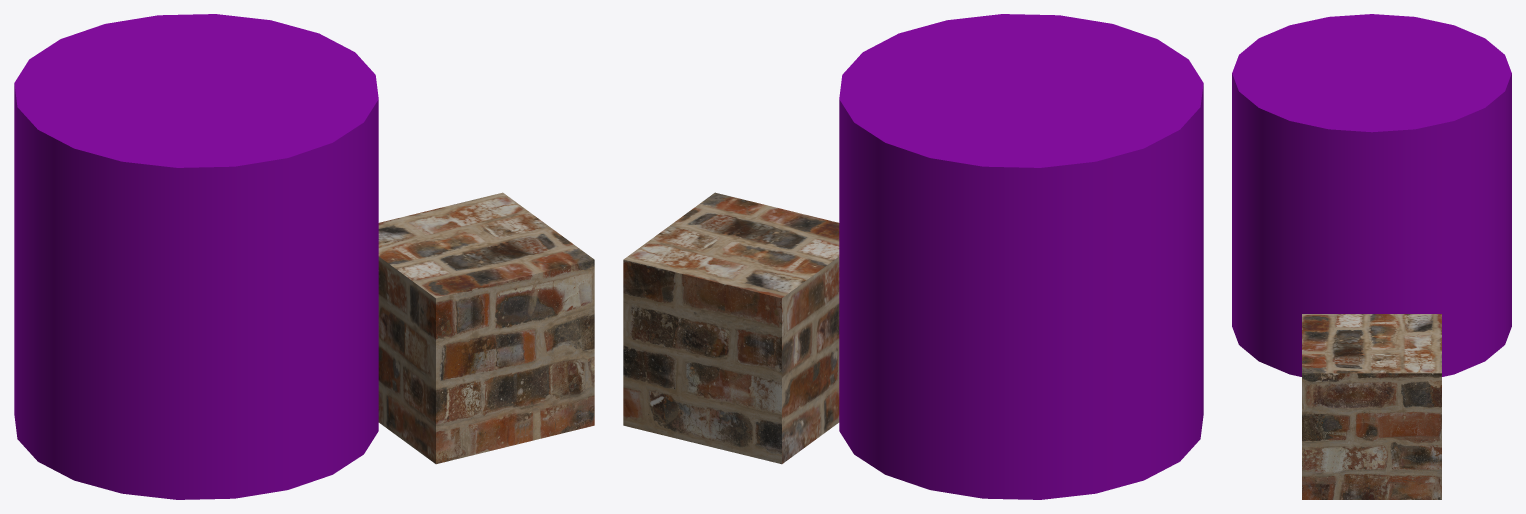
The model's file is blueBox.fbx.
The picture shows the model from 3 angles, left to right: view 1: azimuth 30°, elevation 25°; view 2: azimuth 150°, elevation 25°; view 3: azimuth 270°, elevation 25°; orthographic projection. The views are drawn at different scales.
Parts seen in each view (by area): view 1: pCylinder1, pCube1; view 2: pCylinder1, pCube1; view 3: pCylinder1, pCube1.
Boxes of the visible parts, x1,y1,x2,y2 form: pCylinder1: (14, 14, 378, 499); pCube1: (378, 192, 594, 464); pCylinder1: (839, 14, 1203, 499); pCube1: (623, 192, 839, 464); pCylinder1: (1232, 14, 1511, 376); pCube1: (1302, 314, 1441, 499).
Size of the model in its own units: 3.22 by 2.33 by 2.
2 materials, 1 textured.
